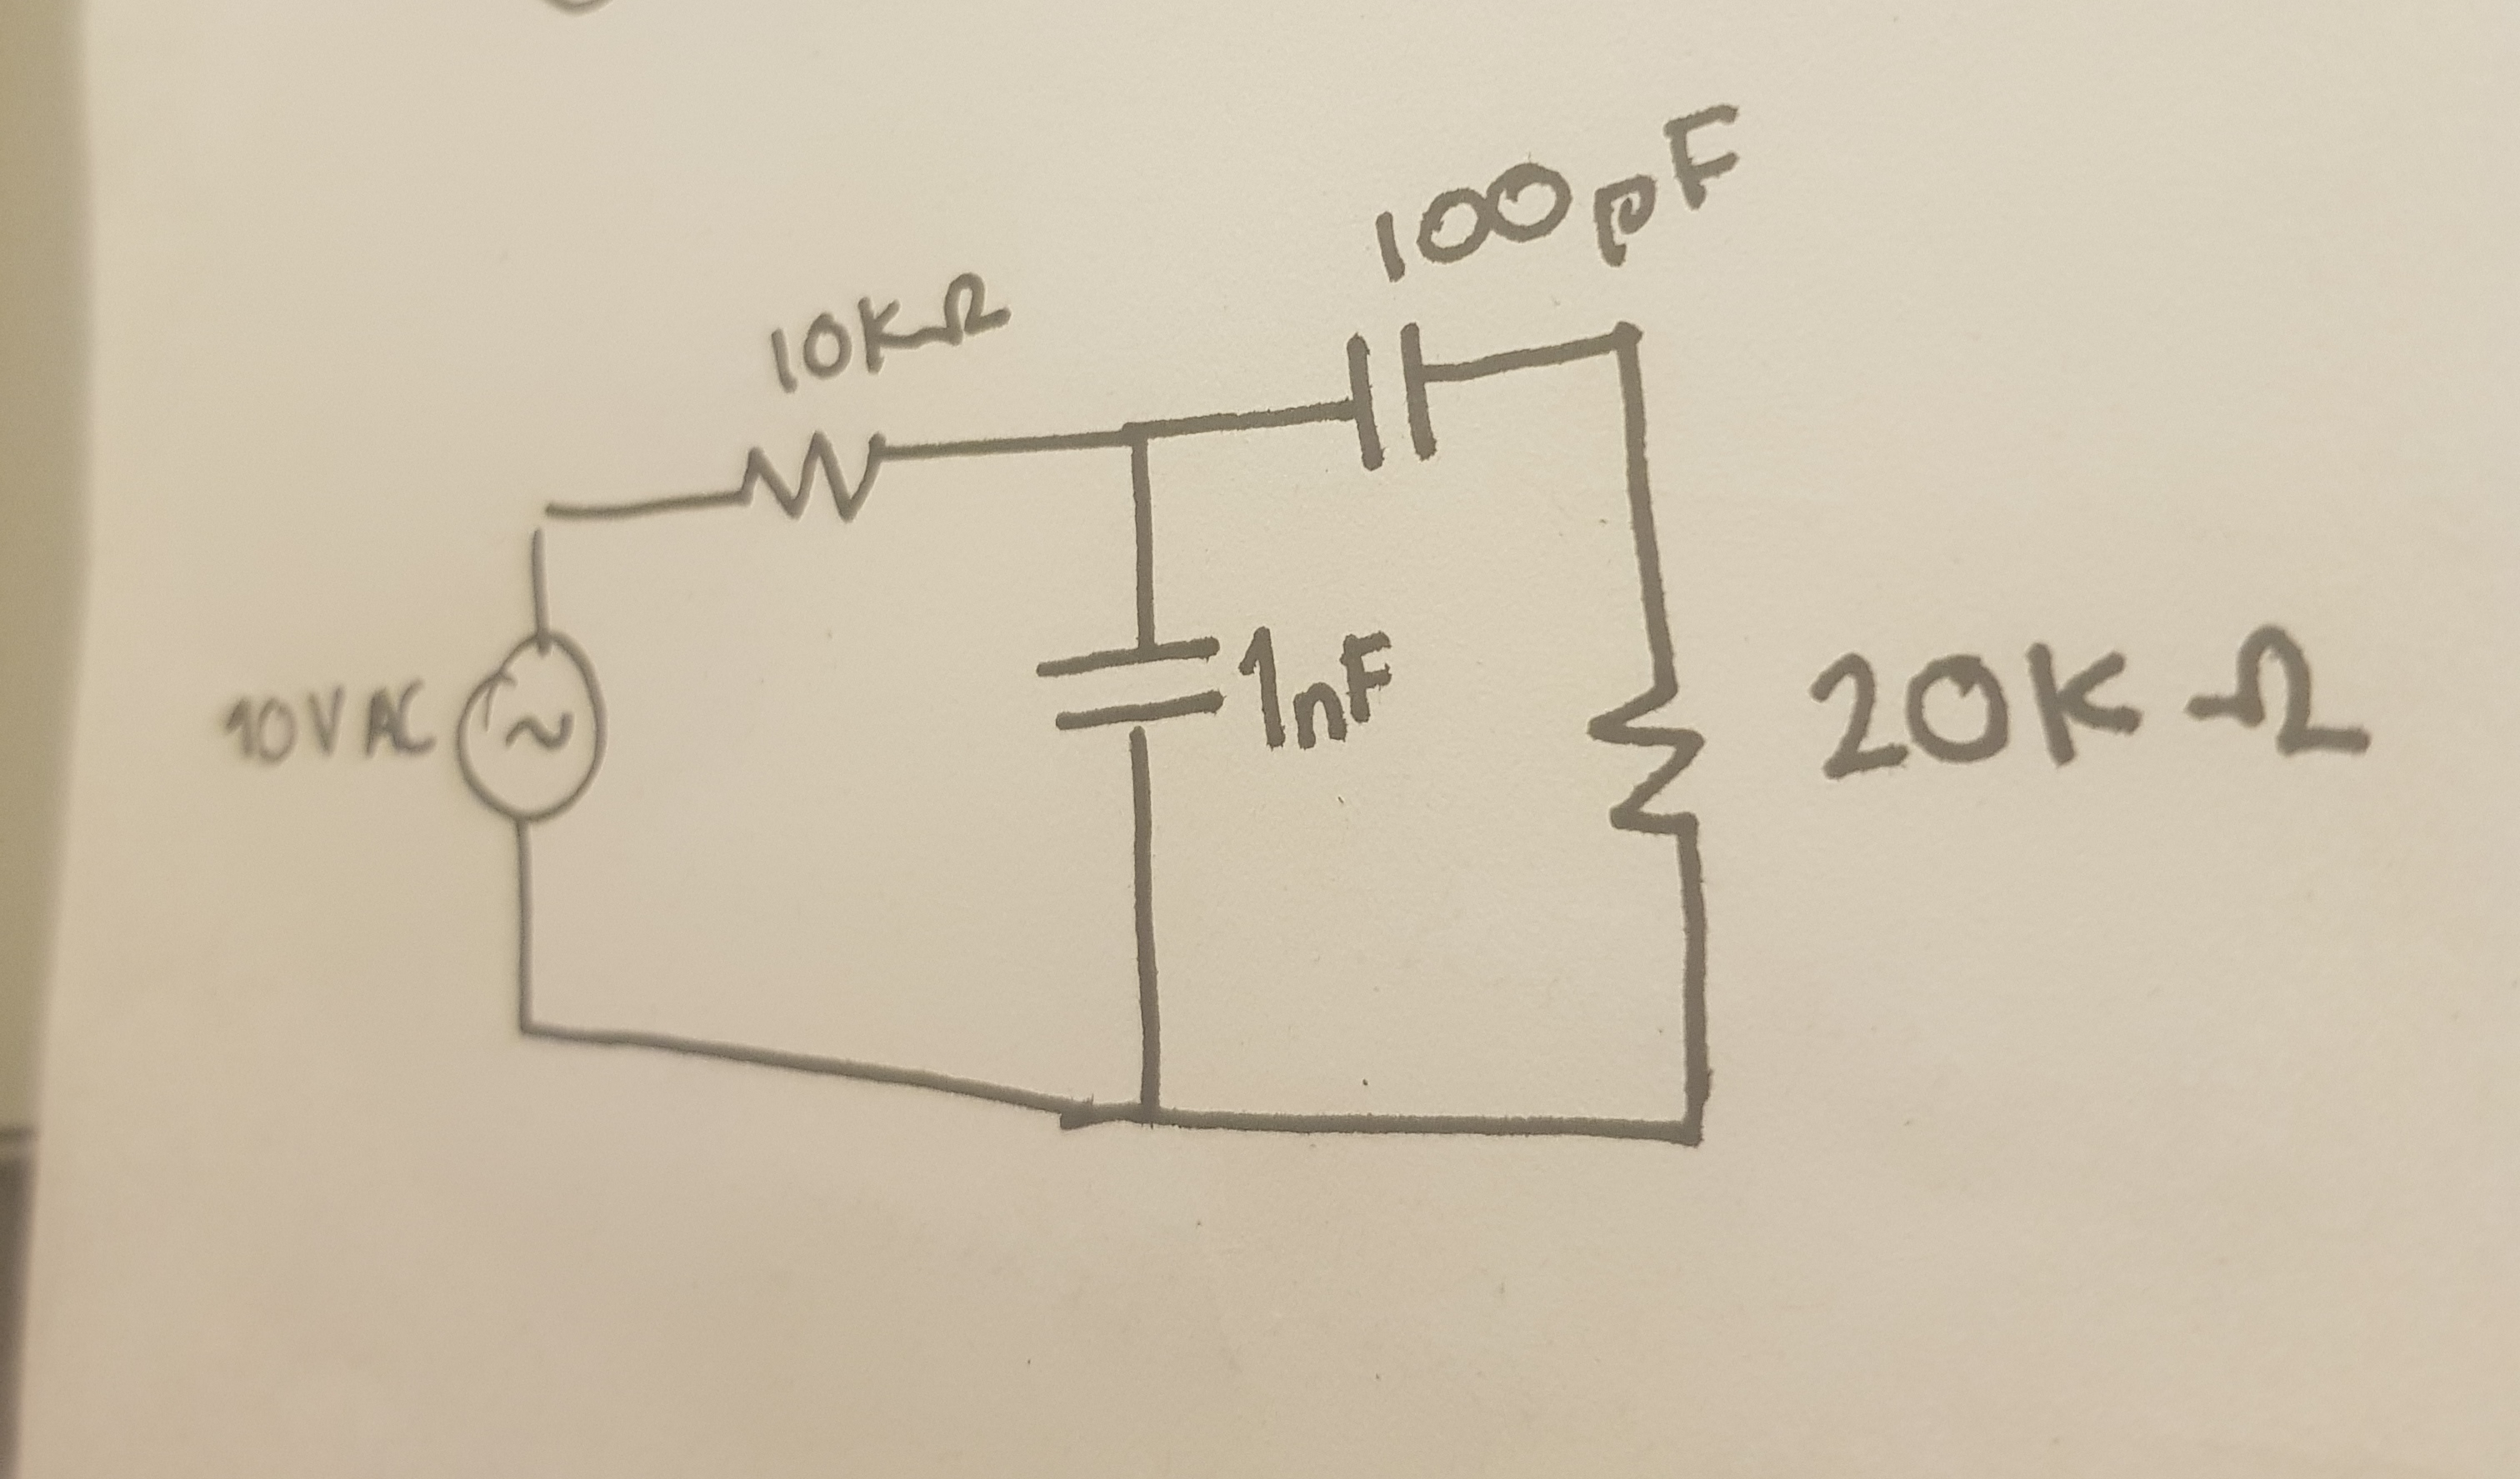capacitor.unpolarized: (1027, 625, 1238, 750), (1337, 310, 1456, 486)
junction: (1650, 1085, 1726, 1167), (1116, 1074, 1190, 1153), (1097, 407, 1183, 470), (490, 997, 560, 1060), (1601, 305, 1666, 372), (511, 488, 579, 544)
resistor: (1576, 667, 1719, 857), (727, 426, 900, 535)
text: (1807, 618, 2381, 780), (1352, 92, 1747, 271), (750, 261, 1023, 394), (197, 674, 440, 780), (1233, 623, 1407, 754)
voltage.dc: (444, 623, 613, 838)
